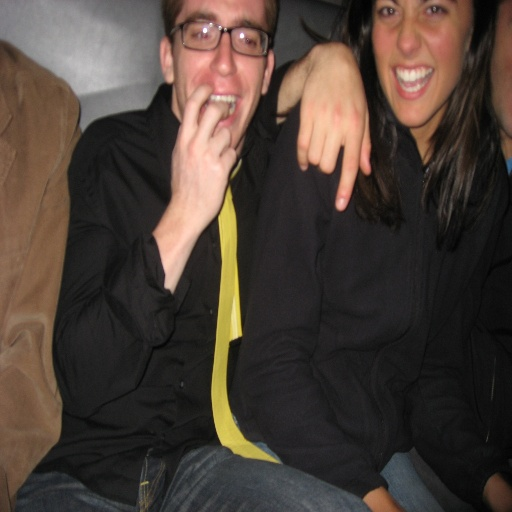hand: (270, 7, 375, 203), (168, 81, 239, 232)
